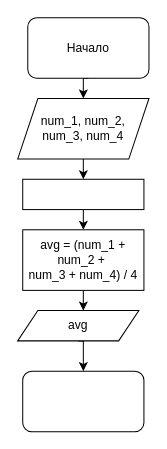
This 167x449 diagram has some shape labels left out. Each missing label, with the box of its shape:
avg = 0: (22, 178, 144, 210)
Конец: (22, 370, 144, 432)
